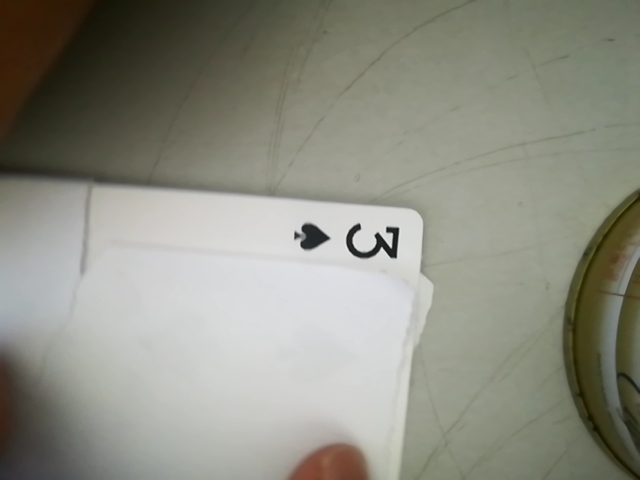ht 3: (300, 212, 420, 267)
